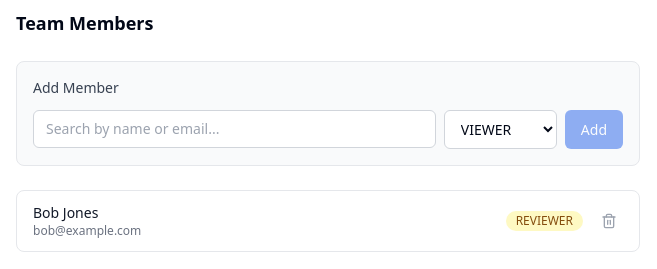
Test: PermissionManagementPanel › clicking No after the confirmation prompt dismisses it
The width and height of the screenshot is (657, 269).
Check: the text "Bob Jones" is shown, box [33,203,98,222]
Click the button titled "Remove member": (609, 221) [595,207,623,235]
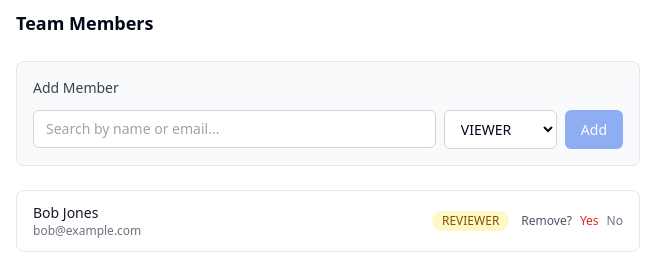
Check: the text "Remove?" is shown, box [521,213,572,229]
Click the button "No": (615, 221) [607,213,623,229]
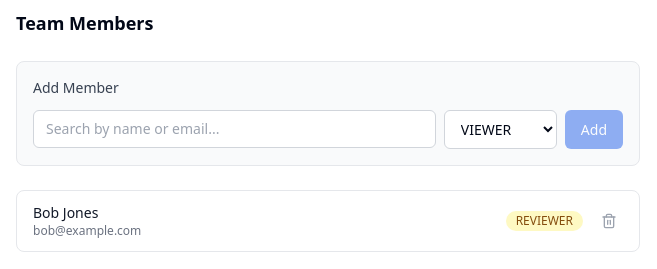
Check: the text "Remove?" is gone
